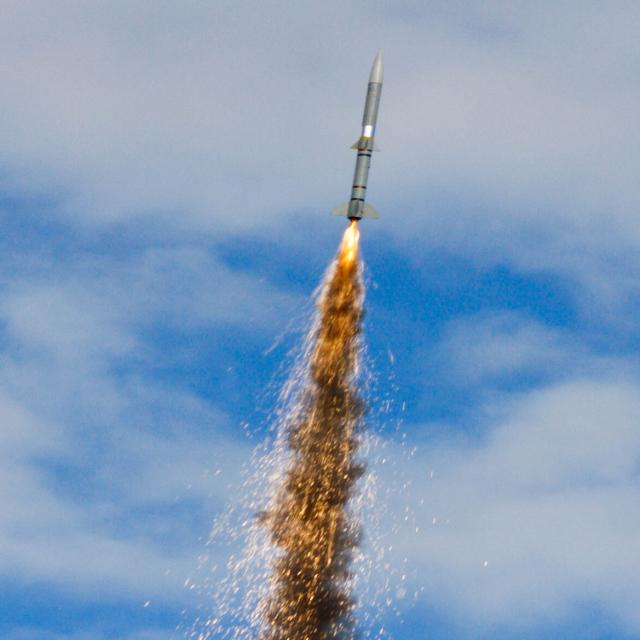Rocket: (329, 47, 385, 222)
